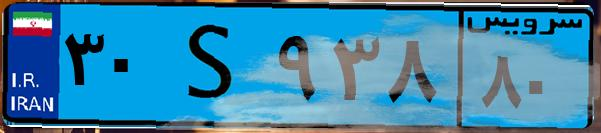0: (525, 38, 570, 115), (110, 28, 158, 98)
3: (330, 28, 385, 110), (57, 26, 110, 100)
8: (385, 28, 445, 110), (475, 38, 525, 113)
9: (270, 28, 330, 110)
S: (158, 12, 270, 120)
